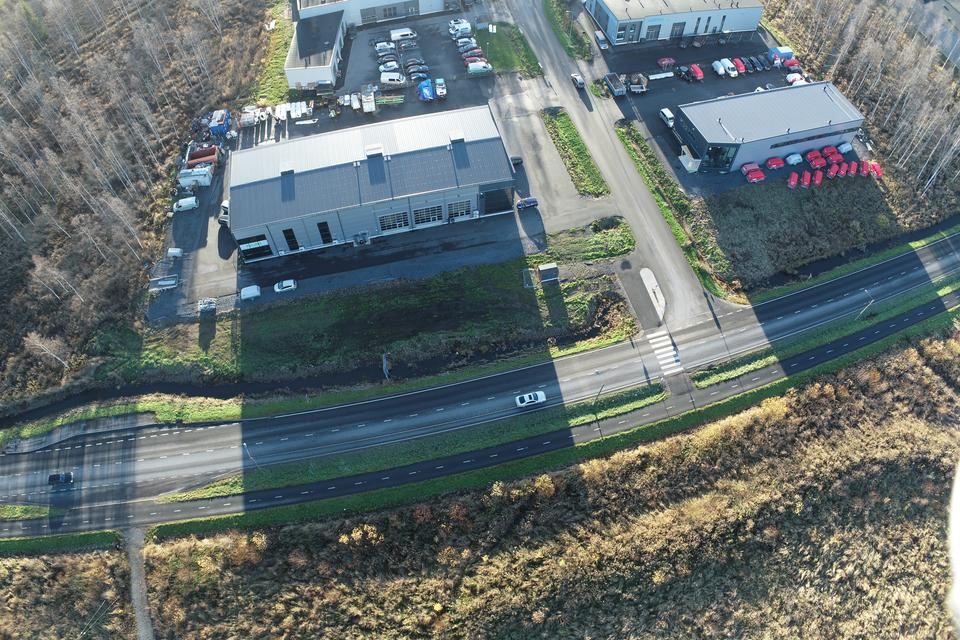intersection: (609, 285, 811, 451), (104, 404, 166, 576)
